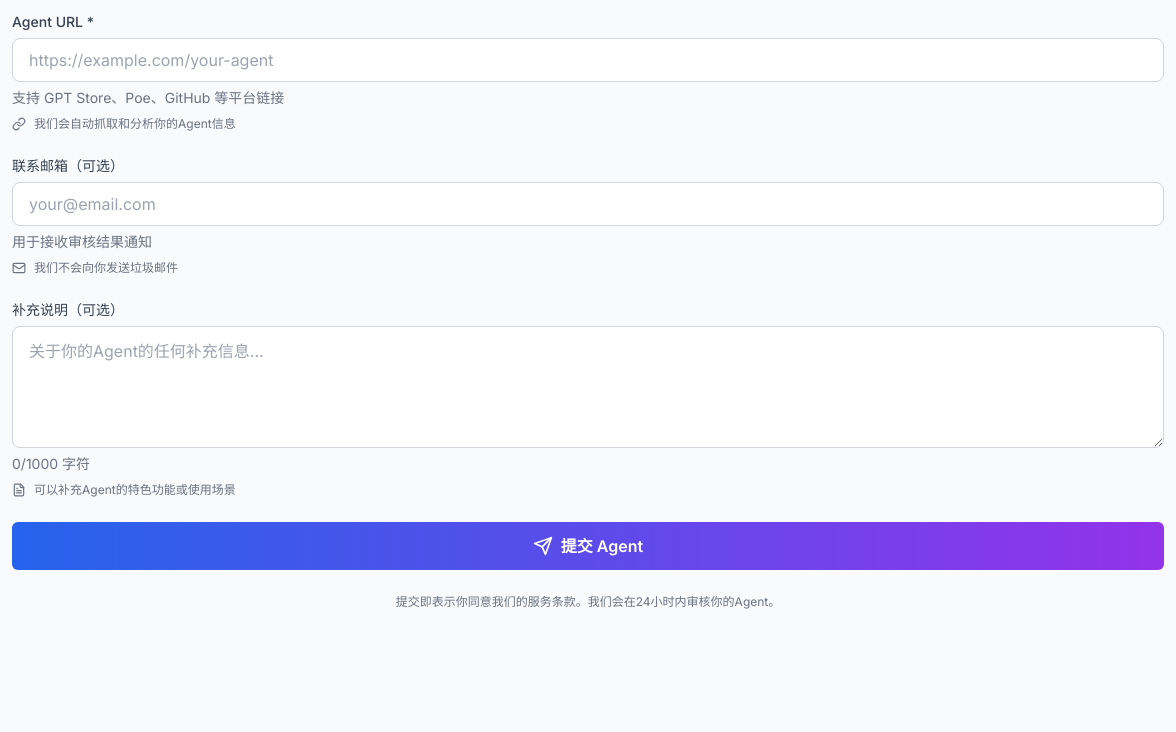
Test: PublishAgentForm › 表单交互测试 › 应该在提交无效表单时显示错误
Step 1. Click the button "提交 Agent" → (588, 546), box x1=12 y1=522 x2=1164 y2=570
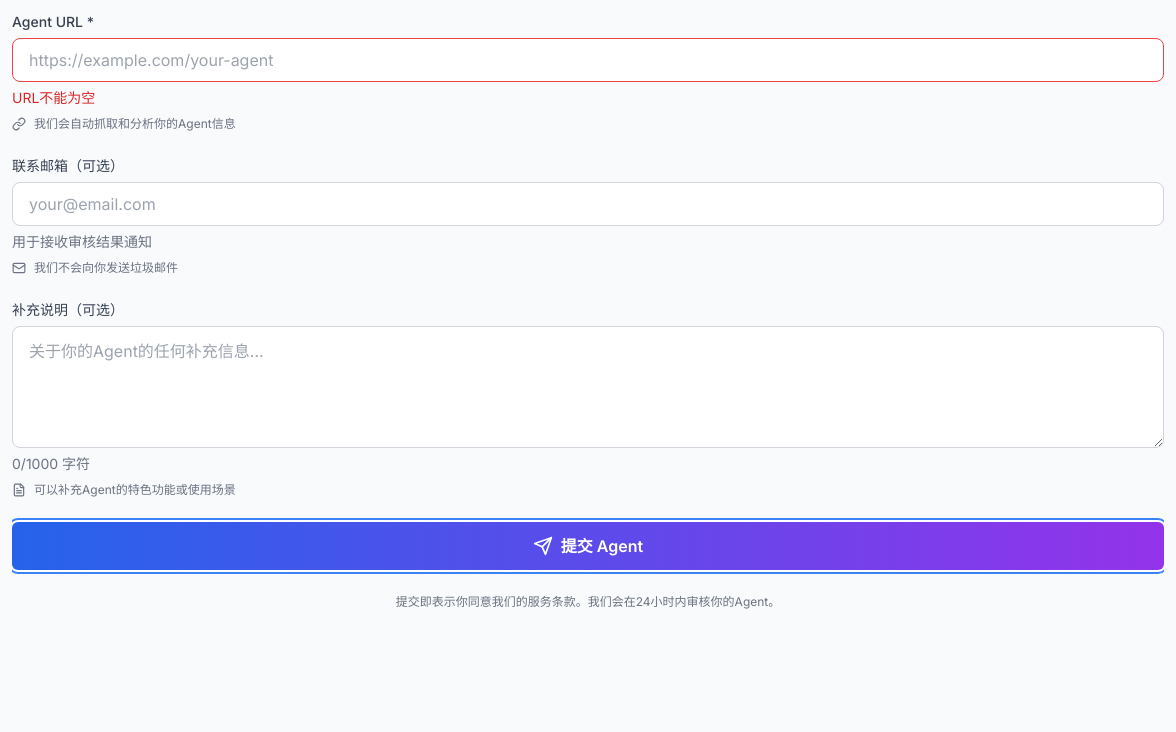
expect the text "URL不能为空" is shown: met, box x1=12 y1=89 x2=95 y2=106
